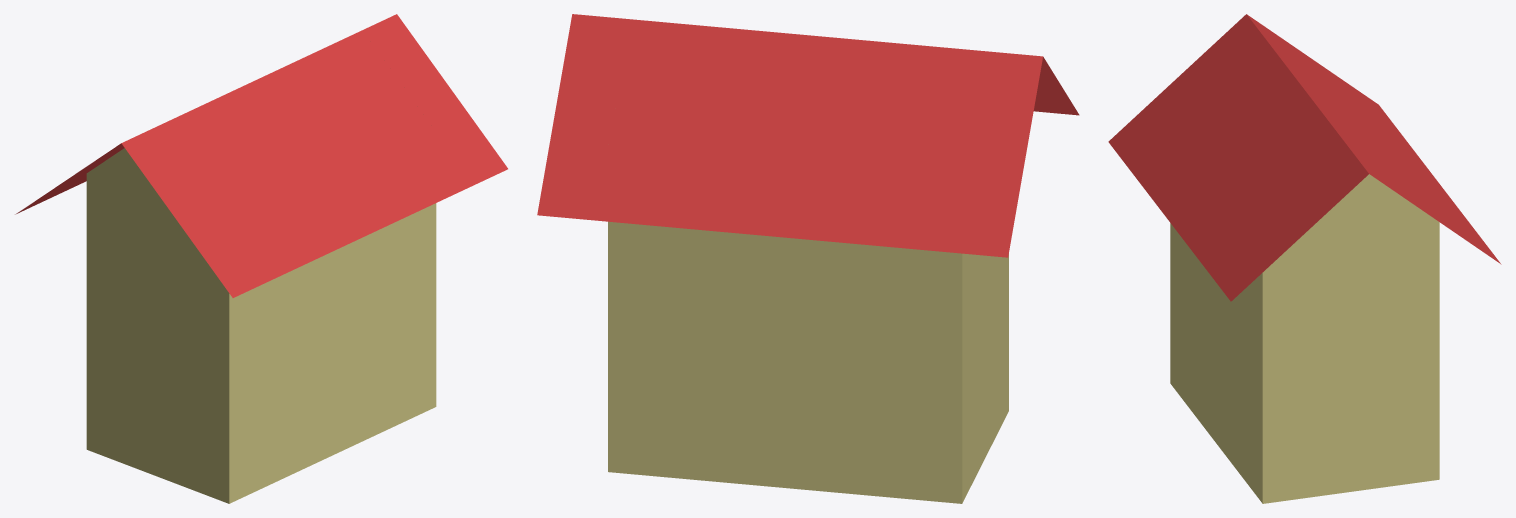
3 views of the same model, side by side, from view 1: azimuth 30°, elevation 25°; view 2: azimuth 150°, elevation 25°; view 3: azimuth 270°, elevation 25° (orthographic). The views are drawn at different scales.
Bounding box in the file's own units: 9.45 × 7.97 × 7.54.
